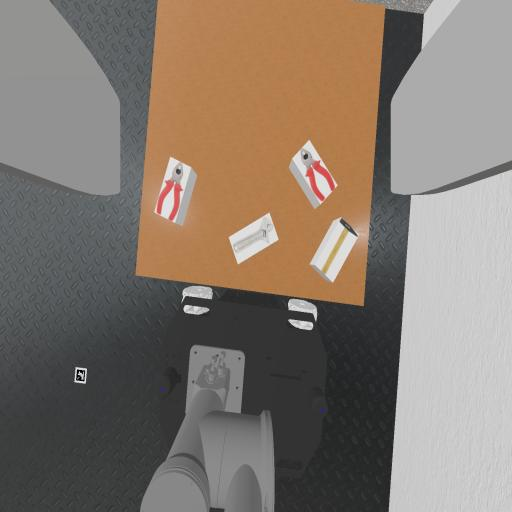hammer: (322, 219, 358, 274)
pliers: (301, 149, 335, 201), (156, 163, 183, 220)
wrench: (234, 217, 273, 252)
